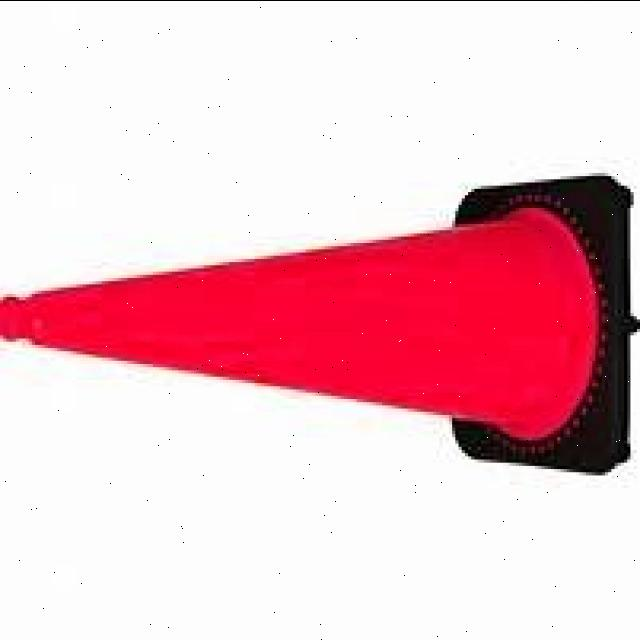traffic cone: (1, 162, 640, 488)
